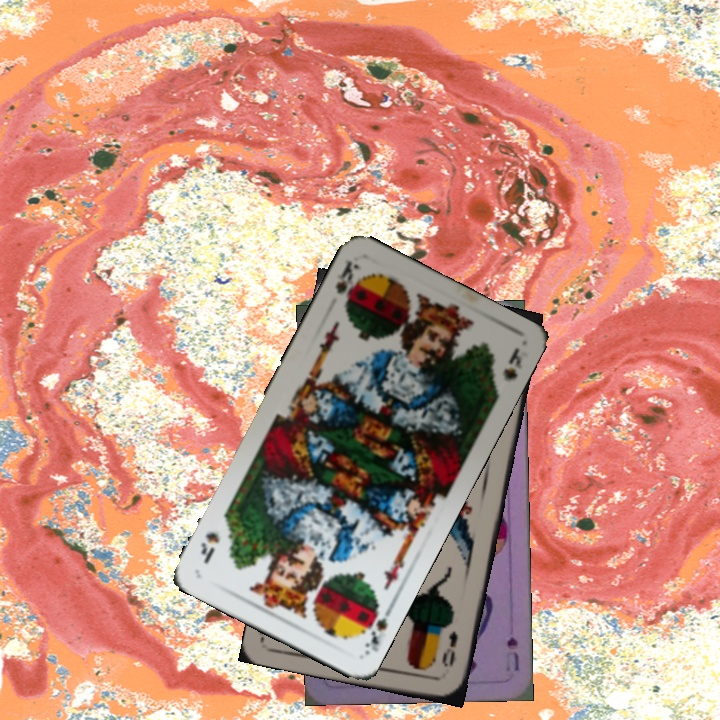EO: (437, 627, 461, 669)
SK: (357, 596, 395, 657), (331, 256, 364, 310)
SU: (501, 632, 522, 674)
